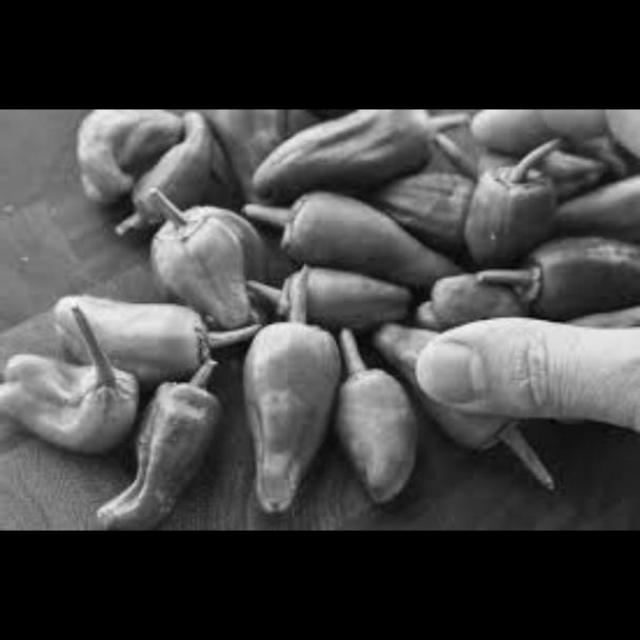ot cay: (235, 262, 363, 530), (383, 326, 556, 485), (89, 352, 239, 530), (0, 293, 144, 461), (47, 283, 262, 391), (142, 182, 275, 341), (324, 314, 423, 518), (243, 184, 452, 277), (239, 108, 462, 191), (456, 122, 584, 260), (112, 108, 225, 230), (497, 227, 640, 318), (74, 109, 191, 203), (413, 256, 536, 332), (379, 160, 490, 237), (547, 152, 640, 230)
